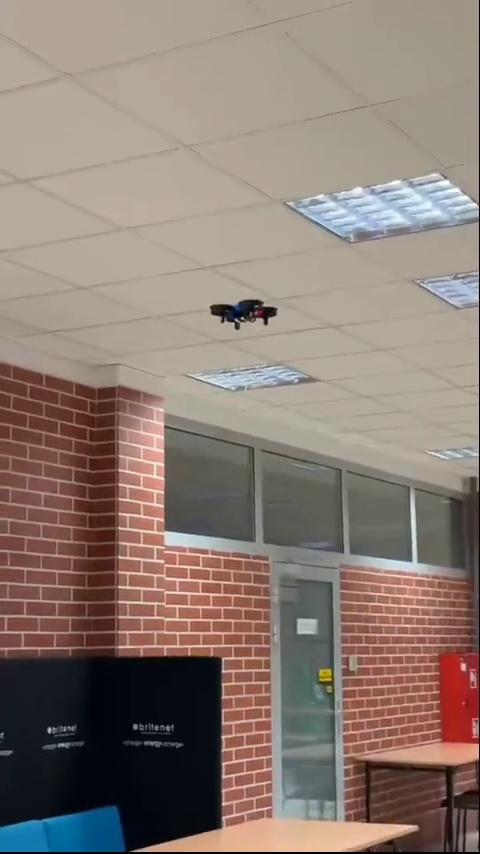drone: (204, 293, 279, 330)
